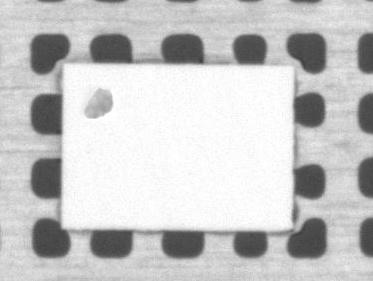DIE_INK: (81, 86, 113, 120)
